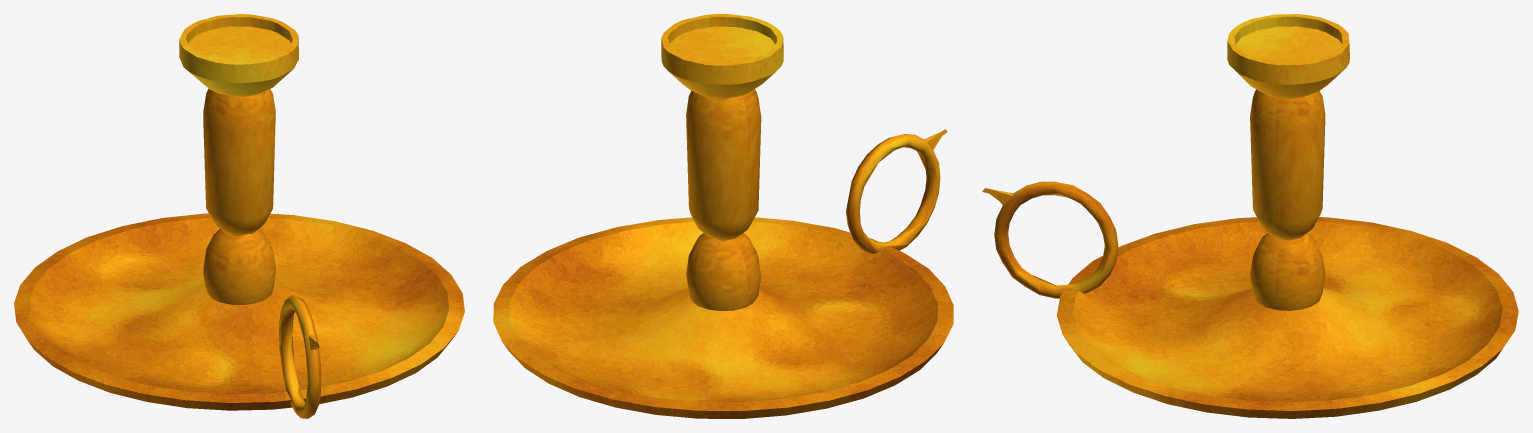
Rendered from Candle holder.FBX.
The picture shows the model from 3 angles, left to right: view 1: azimuth 30°, elevation 25°; view 2: azimuth 150°, elevation 25°; view 3: azimuth 270°, elevation 25°; orthographic projection. The views are drawn at different scales.
Visible parts, largest first — view 1: Candle holder; view 2: Candle holder; view 3: Candle holder.
Part boxes in pixels (x1=…): Candle holder: x1=14, y1=14, x2=464, y2=418; Candle holder: x1=493, y1=14, x2=953, y2=418; Candle holder: x1=982, y1=14, x2=1518, y2=418.
Bounding box in the file's own units: 42.49 × 31.61 × 49.35.
Materials: 1 (1 with a texture image).
